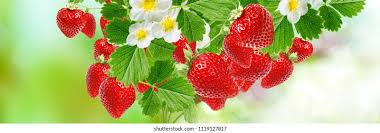ripe: (184, 49, 238, 102), (227, 9, 276, 51), (97, 75, 140, 121), (219, 32, 259, 72), (257, 50, 297, 89), (193, 74, 228, 114), (167, 27, 200, 68), (233, 48, 273, 80), (226, 64, 261, 99), (285, 30, 318, 64), (85, 62, 113, 98), (55, 8, 87, 39), (90, 40, 123, 64), (99, 11, 123, 40), (137, 74, 162, 96), (78, 12, 97, 39)
